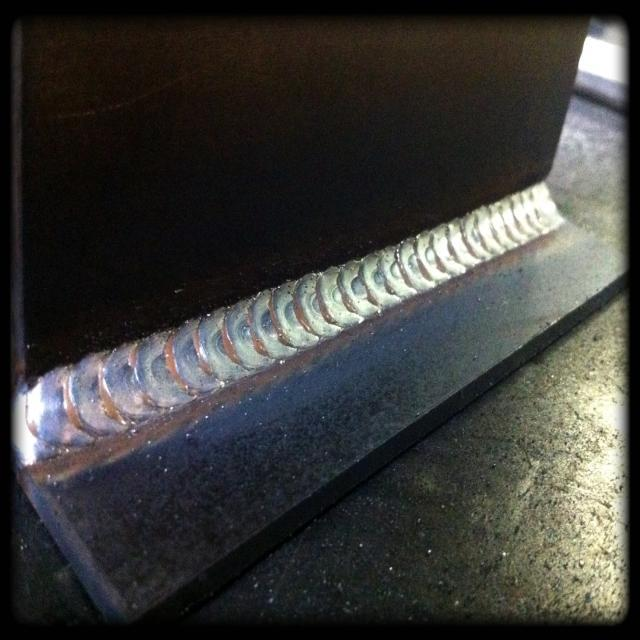Good Welding: (14, 182, 564, 465)
